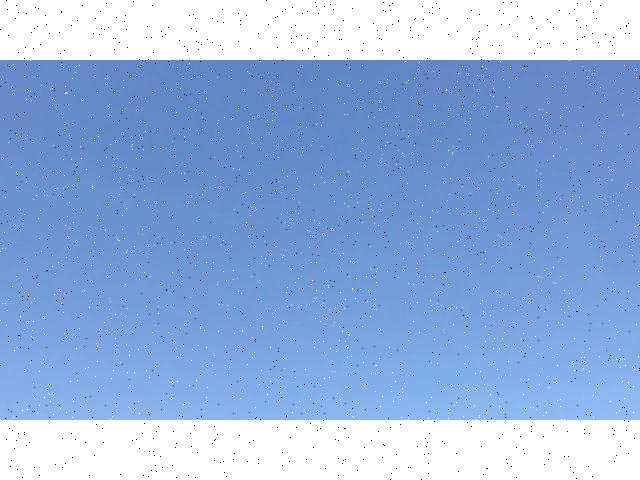Anti-Drone: (243, 194, 269, 220)
